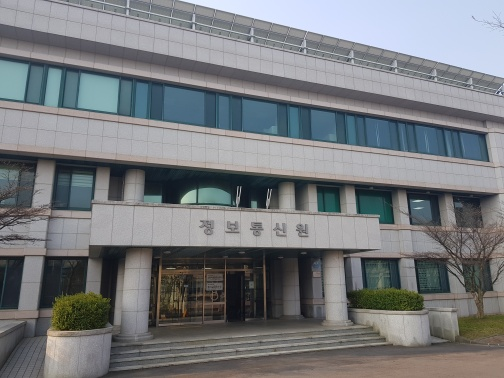Information Telecommunication Center: (1, 3, 495, 350), (87, 192, 407, 358), (187, 211, 315, 245)
